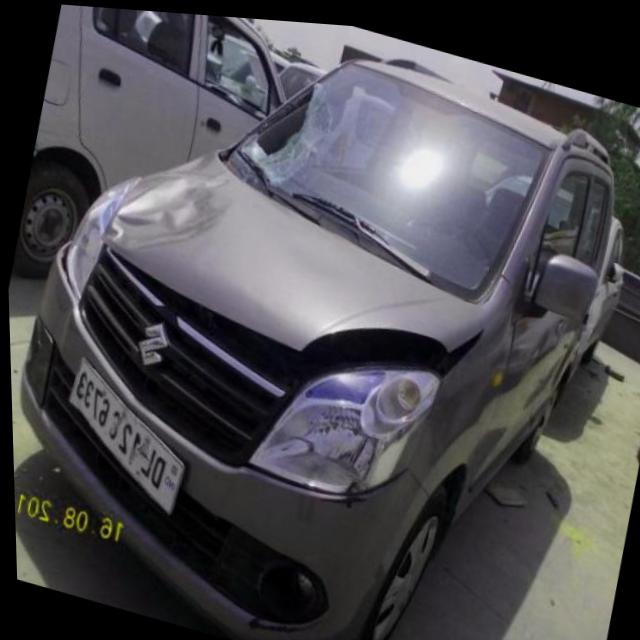Car-Damage: (265, 267, 487, 444), (98, 124, 237, 272), (218, 52, 344, 207), (240, 584, 325, 640), (310, 462, 377, 520)
